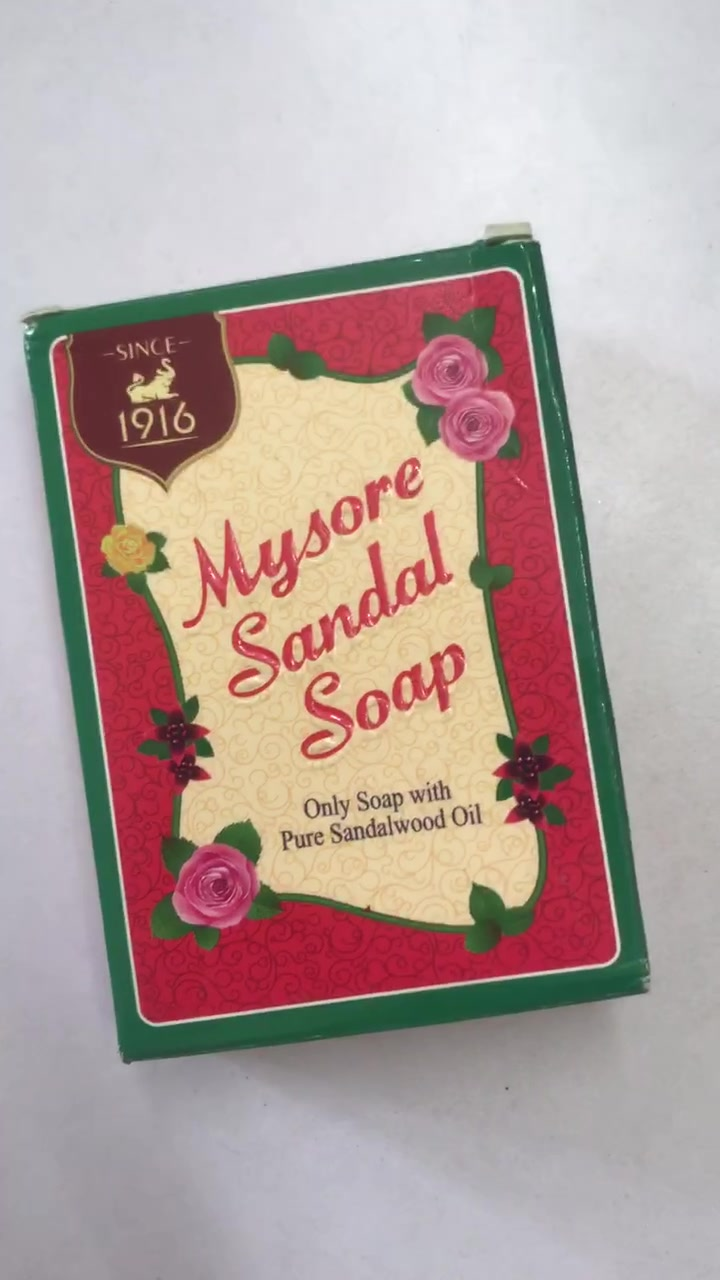mysore sandal soap: (31, 234, 655, 1056)
